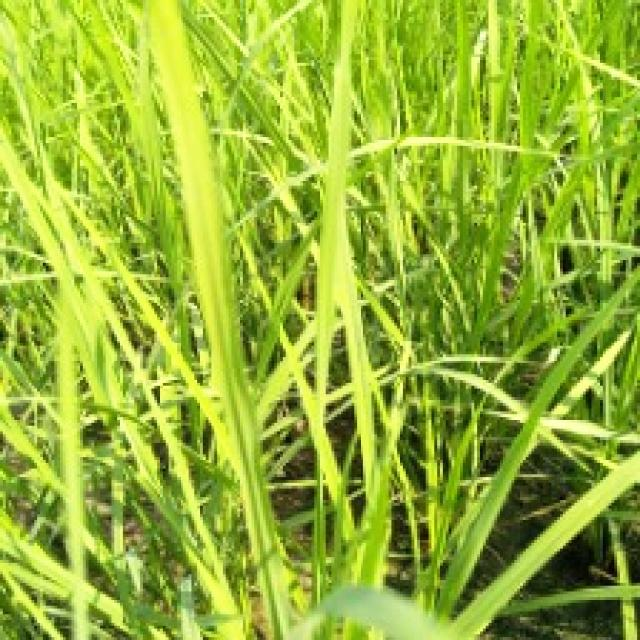health: (0, 0, 622, 625)
